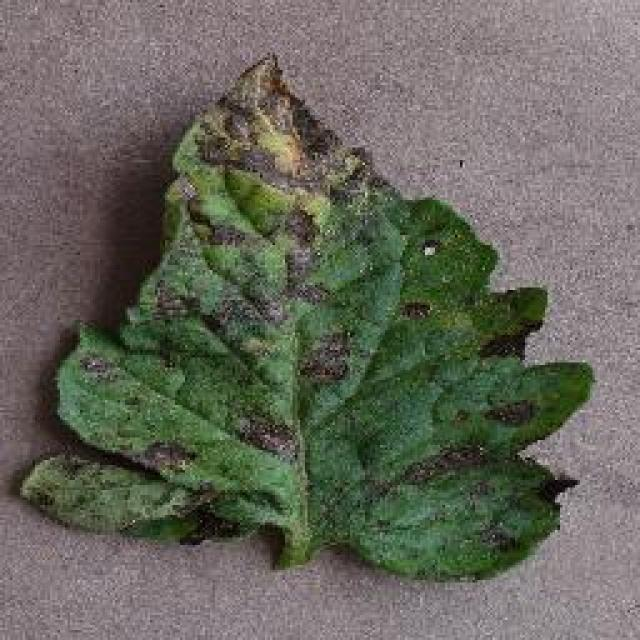Tomato Early blight leaf: (23, 51, 586, 586)
